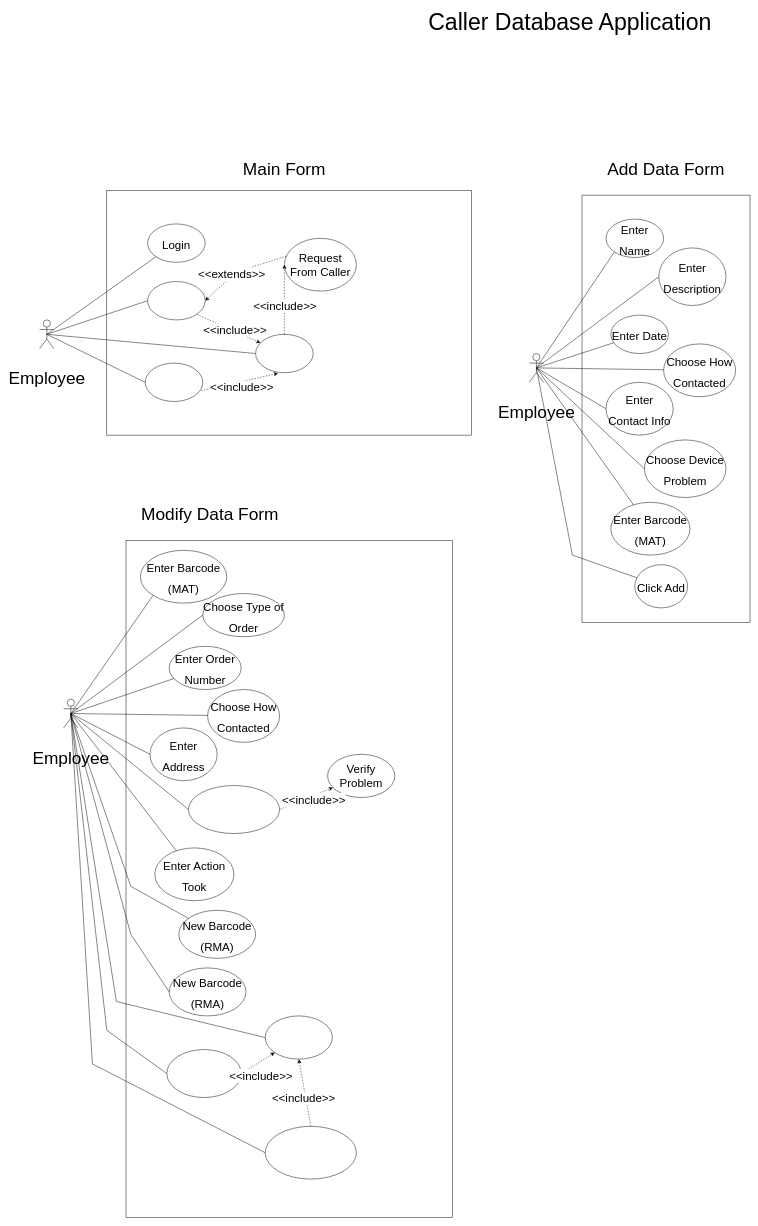
Image size: 758x1226. Some labels were removed from this diagram. The shapes that lost their labels are listed below. From the top down, each one's centre as x and y in pixels, then its label:
At (176,300): "Modify Data".
At (284,353): "Add Data".
At (174,382): "View Data".
At (234,809): "Enter How Problem Solved".
At (298,1037): "New Order".
At (203,1073): "Enter Date Sent".
At (310,1152): "Enter Return Number".
